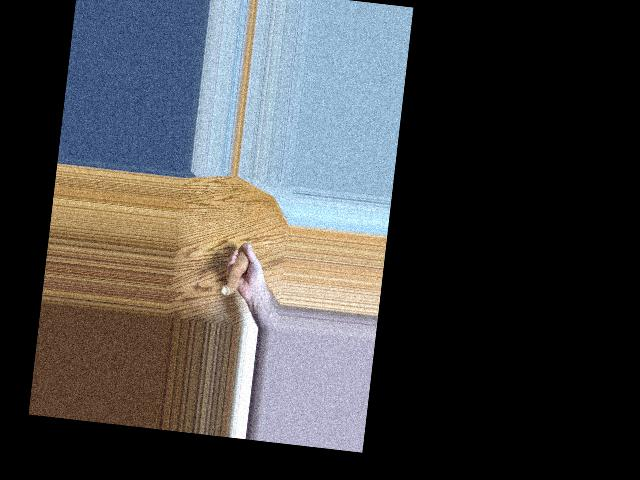sweet_potato: (221, 237, 251, 301)
